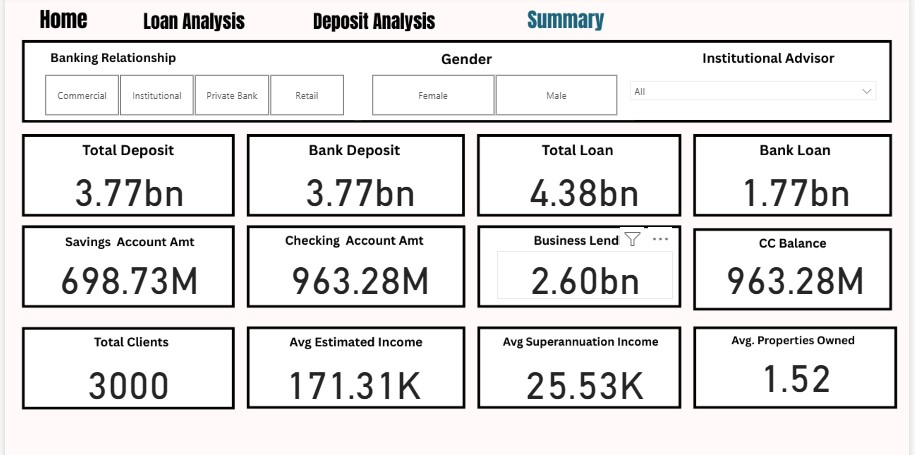

Layout of this report page (visuals, bound fields, positions):
{"tool":"powerbi","page":{"name":"Summary","canvas":[1280,720],"ordinal":3},"visuals":[{"type":"card","fields":{"Values":["Banking.Total Deposit"]},"box":[75.7,235.7,202.9,68.6],"z":0},{"type":"card","fields":{"Values":["Banking.Total Deposit"]},"box":[402.9,235.7,202.9,68.6],"z":1000},{"type":"card","fields":{"Values":["Banking.Total Loan"]},"box":[720,235.7,202.9,68.6],"z":2000},{"type":"card","fields":{"Values":["Sum(Banking.Bank Loans)"]},"box":[1018.6,235.7,202.9,68.6],"z":3000},{"type":"card","fields":{"Values":["Sum(Banking.Saving Accounts)"]},"box":[51.4,360,250,68.6],"z":4000},{"type":"card","fields":{"Values":["Sum(Banking.Checking Accounts)"]},"box":[378.6,360,250,68.6],"z":5000},{"type":"card","fields":{"Values":["Sum(Banking.Business Lending)"]},"box":[697.1,360,250,68.6],"z":6000},{"type":"card","fields":{"Values":["Sum(Banking.Checking Accounts)"]},"box":[994.3,360,250,68.6],"z":7000},{"type":"card","fields":{"Values":["CountNonNull(Banking.Name)"]},"box":[72.9,507.1,205.7,71.4],"z":8000},{"type":"card","fields":{"Values":["Avg(Banking.Estimated Income)"]},"box":[378.6,507.1,231.4,71.4],"z":9000},{"type":"card","fields":{"Values":["Avg(Banking.Superannuation Savings)"]},"box":[705.7,507.1,231.4,71.4],"z":10000},{"type":"card","fields":{"Values":["Avg(Banking.Properties Owned)"]},"box":[1004.3,497.1,231.4,71.4],"z":11000},{"type":"slicer","fields":{"Values":["Banking.BRId"]},"box":[31.4,102.9,472.9,71.4],"z":12000},{"type":"slicer","fields":{"Values":["Banking.GenderId"]},"box":[494.3,102.9,397.1,71.4],"z":13000},{"type":"slicer","fields":{"Values":["Banking.IAId"]},"box":[875.7,108.6,368.6,58.6],"z":14000},{"type":"actionButton","box":[31.6,9.6,113.9,48],"z":15000},{"type":"actionButton","box":[164.3,10,214.3,47.1],"z":16000},{"type":"actionButton","box":[414.3,11.4,214.3,47.1],"z":17000}]}

Visuals, with their boxes on the page's 1280x720 design canvas (x1, y1, x2, y2). These are canvas units, not pixel positions in the 915x455 screenshot, which may show the page scaled, cropped or inside an application window:
card - Banking.Total Deposit: 76 236 279 304
card - Banking.Total Deposit: 403 236 606 304
card - Banking.Total Loan: 720 236 923 304
card - Sum(Banking.Bank Loans): 1019 236 1222 304
card - Sum(Banking.Saving Accounts): 51 360 301 429
card - Sum(Banking.Checking Accounts): 379 360 629 429
card - Sum(Banking.Business Lending): 697 360 947 429
card - Sum(Banking.Checking Accounts): 994 360 1244 429
card - CountNonNull(Banking.Name): 73 507 279 578
card - Avg(Banking.Estimated Income): 379 507 610 578
card - Avg(Banking.Superannuation Savings): 706 507 937 578
card - Avg(Banking.Properties Owned): 1004 497 1236 568
slicer - Banking.BRId: 31 103 504 174
slicer - Banking.GenderId: 494 103 891 174
slicer - Banking.IAId: 876 109 1244 167
actionButton: 32 10 146 58
actionButton: 164 10 379 57
actionButton: 414 11 629 58
